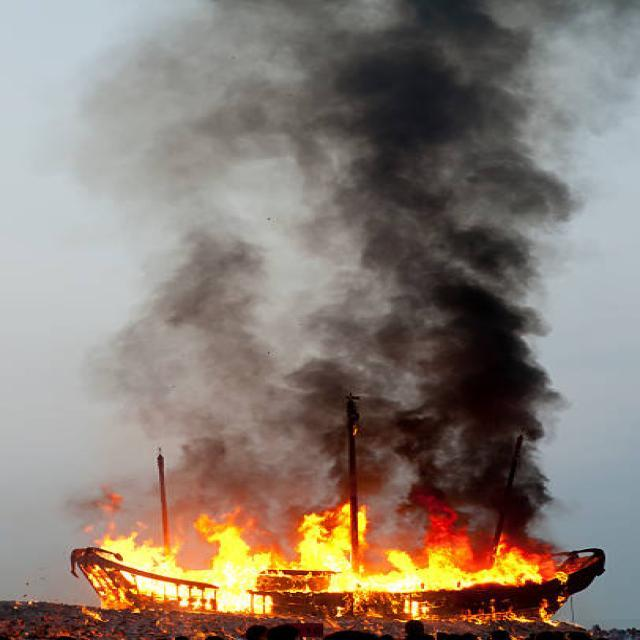Fire: (96, 497, 574, 626)
Smoke: (132, 1, 568, 542)
